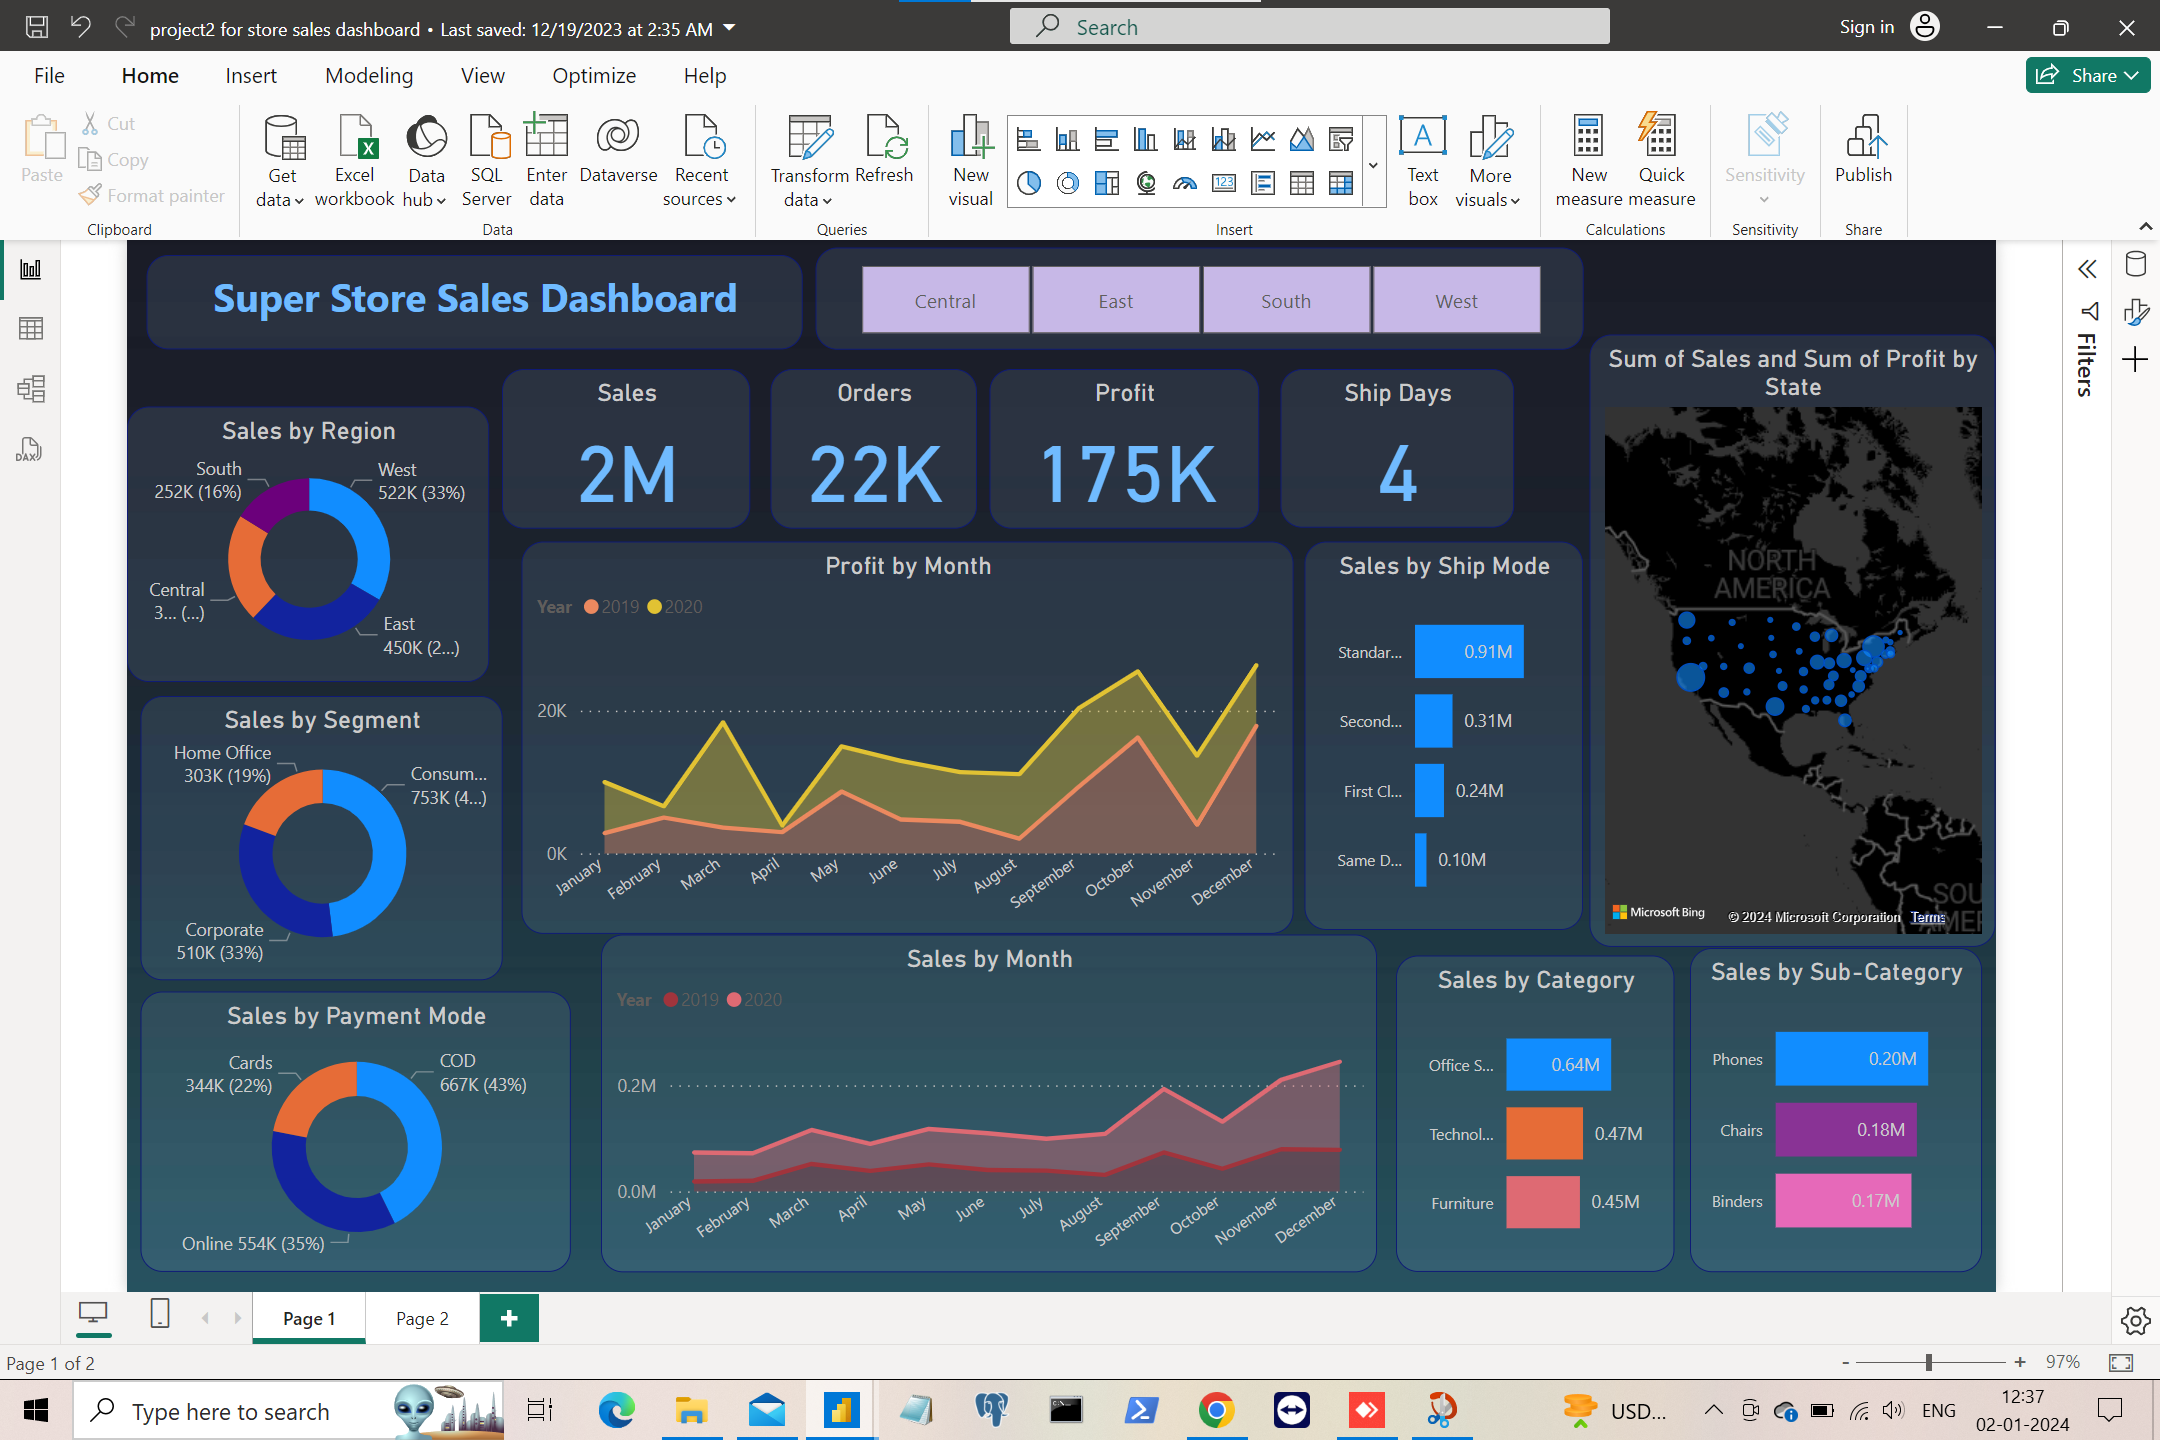

This screenshot's page, from the dashboard's own definition file:
{"tool":"powerbi","page":{"name":"Page 1","canvas":[1280,720],"ordinal":0},"visuals":[{"type":"clusteredBarChart","title":" Sales by Category","fields":{"Category":["SuperStore_Sales_Dataset.Category"],"Y":["Sum(SuperStore_Sales_Dataset.Sales)"]},"box":[869.1,489.7,191,216.9],"z":0},{"type":"clusteredBarChart","title":" Sales by Ship Mode","fields":{"Y":["Sum(SuperStore_Sales_Dataset.Sales)"],"Category":["SuperStore_Sales_Dataset.Ship Mode"]},"box":[806.7,206.6,191,266.3],"z":1000},{"type":"clusteredBarChart","title":" Sales by Sub-Category","fields":{"Y":["Sum(SuperStore_Sales_Dataset.Sales)"],"Category":["SuperStore_Sales_Dataset.Sub-Category"]},"box":[1070.4,484.5,200.1,222.1],"z":2000},{"type":"stackedAreaChart","title":"Sales by Month","fields":{"Category":["SuperStore_Sales_Dataset.Order Date.Variation.Date Hierarchy.Month"],"Y":["Sum(SuperStore_Sales_Dataset.Sales)"],"Series":["SuperStore_Sales_Dataset.Order Date.Variation.Date Hierarchy.Year"]},"box":[324.8,475.5,531.3,231.2],"z":3000},{"type":"stackedAreaChart","title":"Profit by Month","fields":{"Category":["SuperStore_Sales_Dataset.Order Date.Variation.Date Hierarchy.Month"],"Series":["SuperStore_Sales_Dataset.Order Date.Variation.Date Hierarchy.Year"],"Y":["Sum(SuperStore_Sales_Dataset.Profit)"]},"box":[270.2,206.6,528.7,268.9],"z":4000},{"type":"map","title":"Sum of Sales and Sum of Profit by State","fields":{"Category":["SuperStore_Sales_Dataset.State"],"Size":["Sum(SuperStore_Sales_Dataset.Sales)"]},"box":[1001.6,65,278,419.6],"z":5000},{"type":"donutChart","title":"Sales by Segment","fields":{"Category":["SuperStore_Sales_Dataset.Segment"],"Y":["Sum(SuperStore_Sales_Dataset.Sales)"]},"box":[9.1,311.8,248.1,194.9],"z":6000},{"type":"donutChart","title":" Sales by Payment Mode","fields":{"Category":["SuperStore_Sales_Dataset.Payment Mode"],"Y":["Sum(SuperStore_Sales_Dataset.Sales)"]},"box":[9.1,514.4,294.9,192.3],"z":7000},{"type":"slicer","fields":{"Values":["SuperStore_Sales_Dataset.Region"]},"box":[471.6,5.2,526.1,70.1],"z":8000},{"type":"textbox","box":[13,10.4,449.5,65],"z":9000},{"type":"card","title":"Sales","fields":{"Values":["Sum(SuperStore_Sales_Dataset.Sales)"]},"box":[257.2,88.3,170.2,109.1],"z":10000},{"type":"card","title":"Profit","fields":{"Values":["Sum(SuperStore_Sales_Dataset.Profit)"]},"box":[591.1,88.3,184.5,109.1],"z":11000},{"type":"card","title":"Orders","fields":{"Values":["Sum(SuperStore_Sales_Dataset.Quantity)"]},"box":[440.4,88.3,141.6,109.1],"z":12000},{"type":"card","title":"Ship Days","fields":{"Values":["Avg(SuperStore_Sales_Dataset.AVG Dilevery)"]},"box":[790.2,88.8,159.8,108.8],"z":13000},{"type":"donutChart","title":"Sales by Region","fields":{"Y":["Sum(SuperStore_Sales_Dataset.Sales)"],"Category":["SuperStore_Sales_Dataset.Region"]},"box":[0,114.3,248.1,188.4],"z":14000}]}

Visuals, with their boxes on the page's 1280x720 design canvas (x1, y1, x2, y2). These are canvas units, not pixel positions in the 2160x1440 screenshot, which may show the page scaled, cropped or inside an application window:
" Sales by Category" clusteredBarChart: rect(869, 490, 1060, 707)
" Sales by Ship Mode" clusteredBarChart: rect(807, 207, 998, 473)
" Sales by Sub-Category" clusteredBarChart: rect(1070, 484, 1270, 707)
"Sales by Month" stackedAreaChart: rect(325, 476, 856, 707)
"Profit by Month" stackedAreaChart: rect(270, 207, 799, 476)
"Sum of Sales and Sum of Profit by State" map: rect(1002, 65, 1280, 485)
"Sales by Segment" donutChart: rect(9, 312, 257, 507)
" Sales by Payment Mode" donutChart: rect(9, 514, 304, 707)
slicer - SuperStore_Sales_Dataset.Region: rect(472, 5, 998, 75)
textbox: rect(13, 10, 462, 75)
"Sales" card: rect(257, 88, 427, 197)
"Profit" card: rect(591, 88, 776, 197)
"Orders" card: rect(440, 88, 582, 197)
"Ship Days" card: rect(790, 89, 950, 198)
"Sales by Region" donutChart: rect(0, 114, 248, 303)
